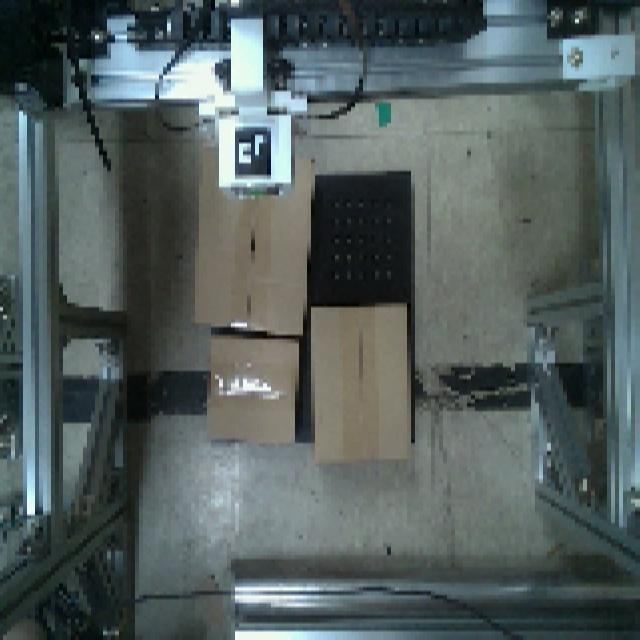box: (311, 299, 417, 465), (203, 332, 308, 449)
